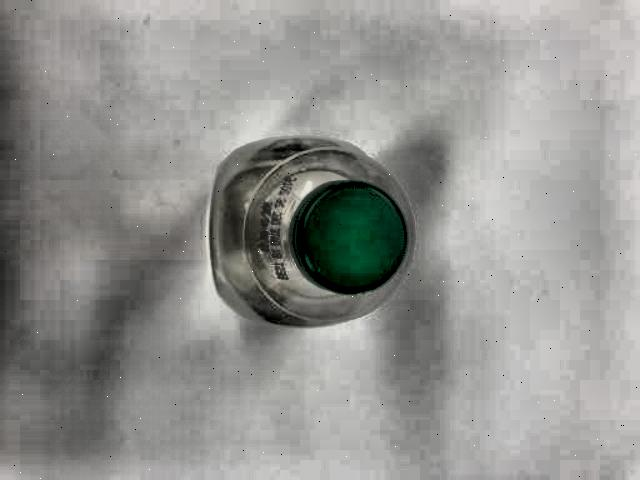Bottles: (186, 122, 417, 338)
